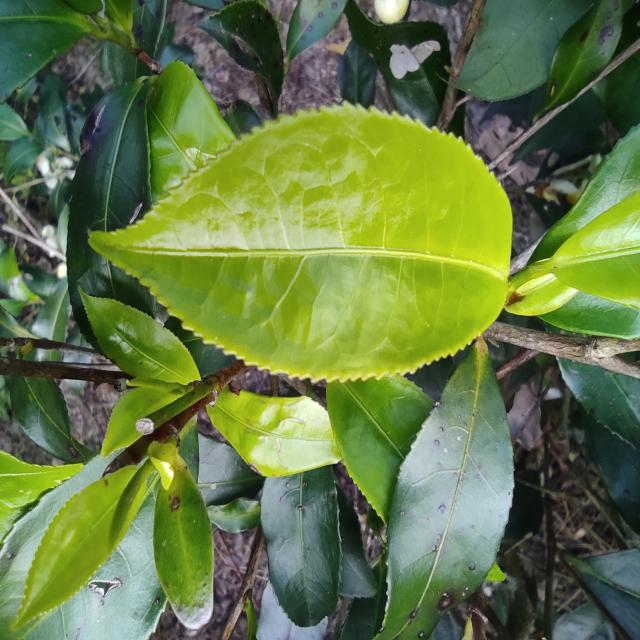Category B(2-4 days): (78, 89, 530, 400)
